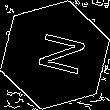N_W: (26, 29, 84, 81)
